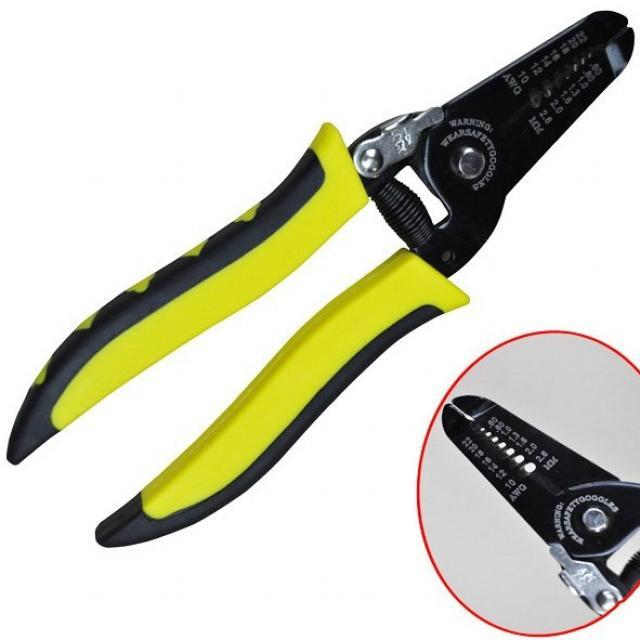pliers: (2, 8, 640, 554)
